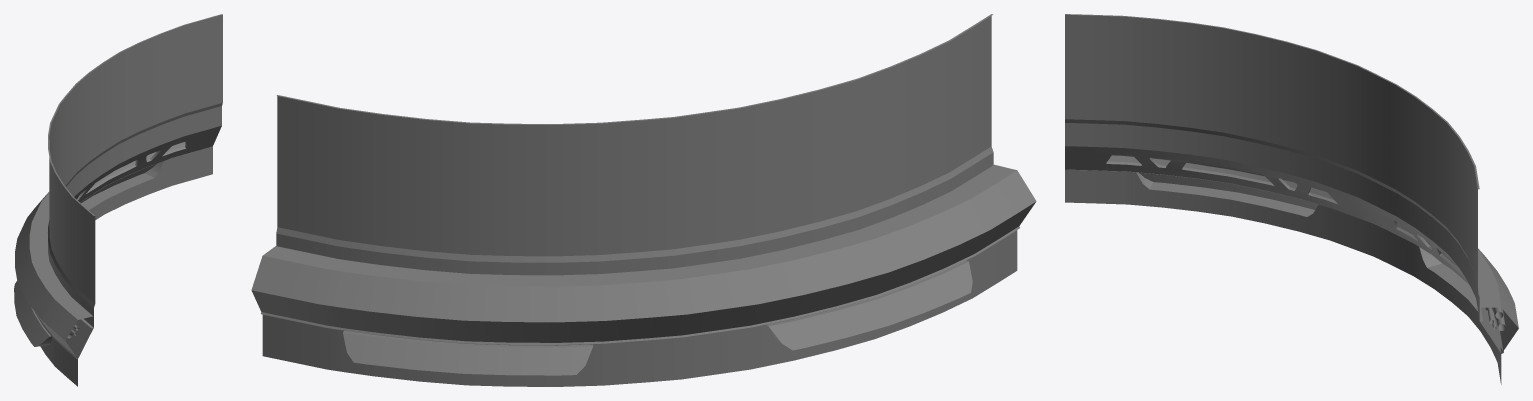
The model's file is q-scifi-mod-topcables-corner-round-inner.glb.
3 renders of one model, left to right at view 1: azimuth 30°, elevation 25°; view 2: azimuth 150°, elevation 25°; view 3: azimuth 270°, elevation 25°, orthographic. The views are drawn at different scales.
Parts seen in each view (by area): view 1: TopCables_Corner_Round_Inner; view 2: TopCables_Corner_Round_Inner; view 3: TopCables_Corner_Round_Inner.
Boxes of the visible parts, x1,y1,x2,y2 form: TopCables_Corner_Round_Inner: (14, 14, 222, 386); TopCables_Corner_Round_Inner: (251, 14, 1036, 386); TopCables_Corner_Round_Inner: (1065, 14, 1518, 384).
Bounding box in the file's own units: 4.16 × 2 × 4.16.
Materials: 4 (4 with a texture image).
